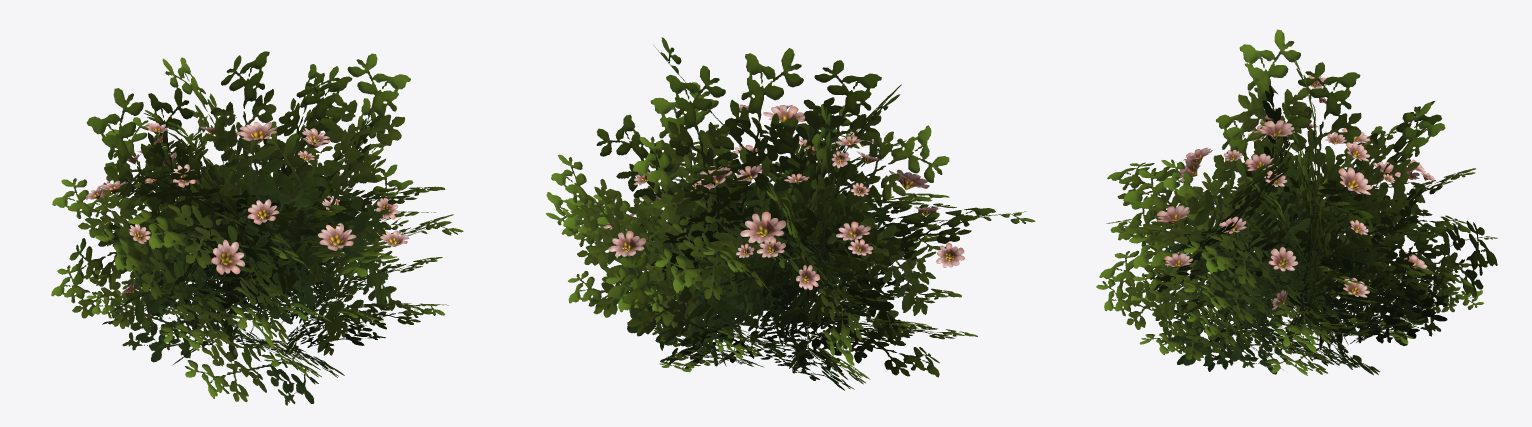
The model's file is wm_灌木大灌木07.fbx.
3 views of the same model, side by side, from view 1: azimuth 30°, elevation 25°; view 2: azimuth 150°, elevation 25°; view 3: azimuth 270°, elevation 25° (orthographic). The views are drawn at different scales.
Parts seen in each view (by area): view 1: wm_灌木大灌木07; view 2: wm_灌木大灌木07; view 3: wm_灌木大灌木07.
Part boxes in pixels (<box>): wm_灌木大灌木07: <box>51,51,463,405</box>; wm_灌木大灌木07: <box>545,37,1035,390</box>; wm_灌木大灌木07: <box>1096,29,1497,375</box>.
Bounding box in the file's own units: 311 × 249 × 278.
